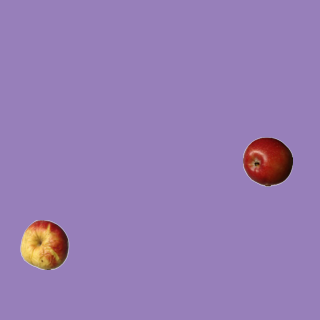Apple Braeburn: (242, 136, 292, 186)
Apple Red Yellow 1: (19, 219, 69, 269)
